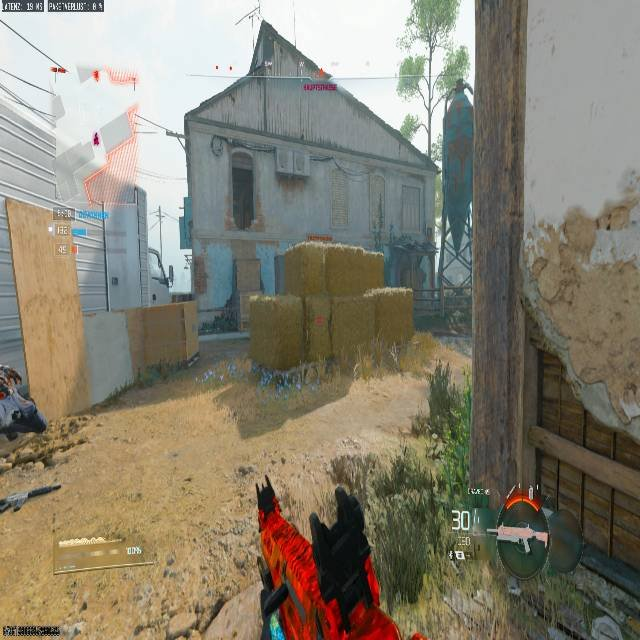head: (0, 365, 22, 391)
player: (0, 360, 51, 482)
